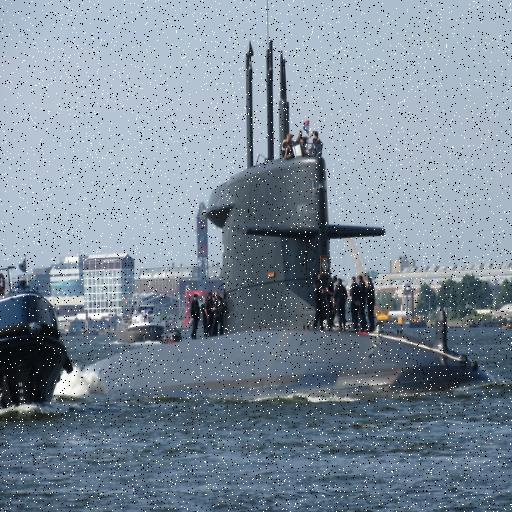submarine: (71, 153, 503, 404)
